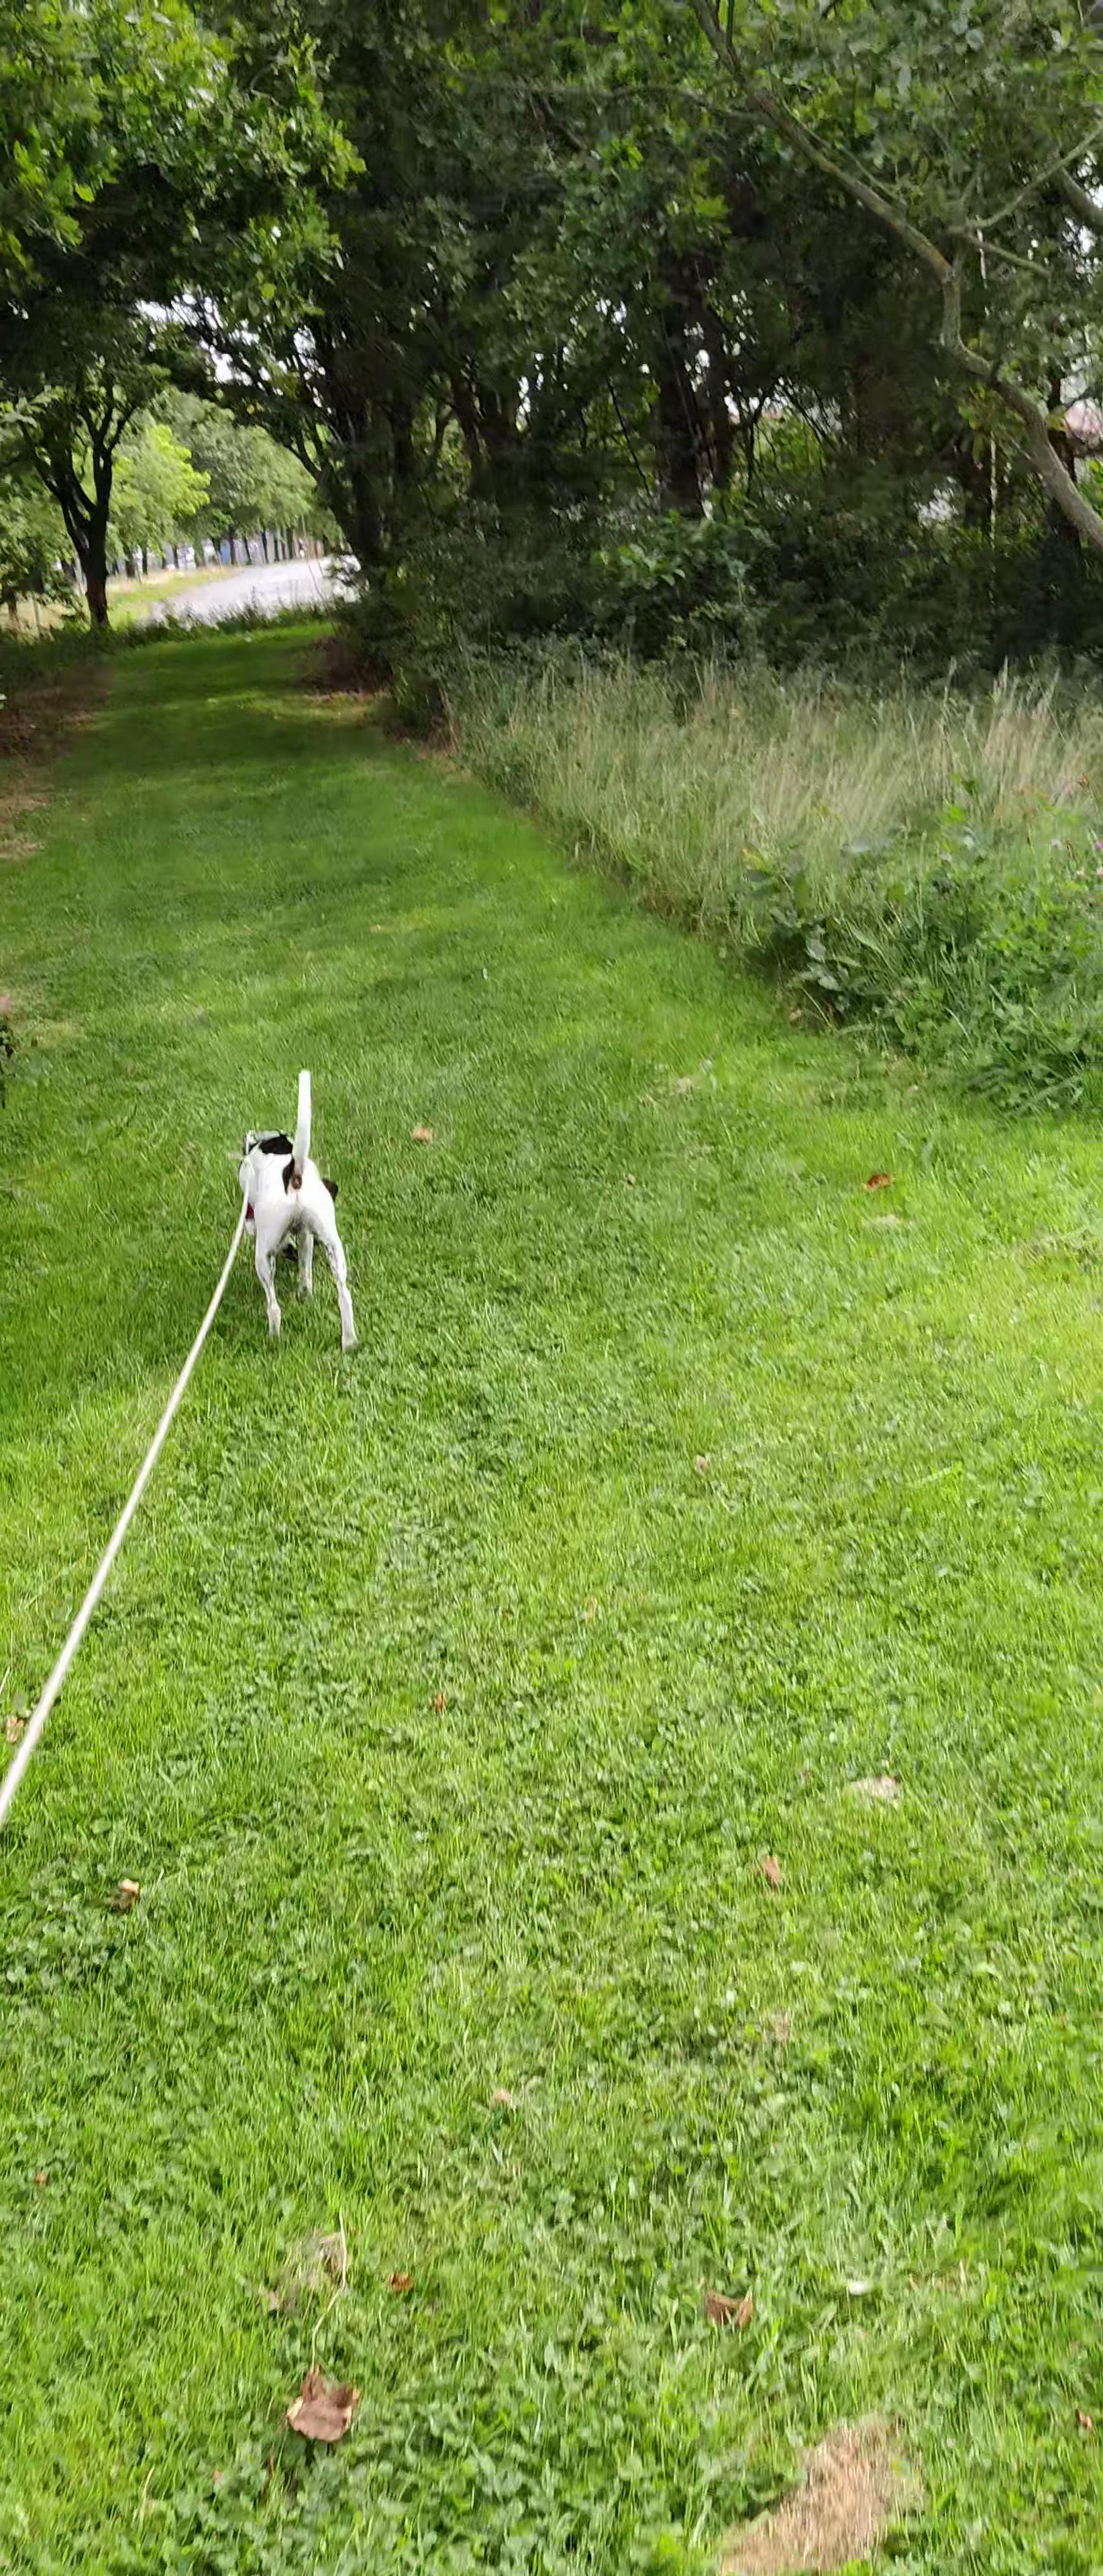Dog: (214, 1051, 388, 1373)
